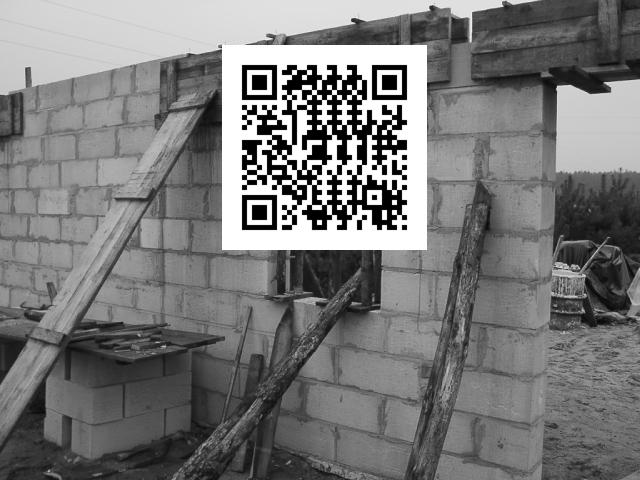qr_code: (222, 45, 425, 247)
